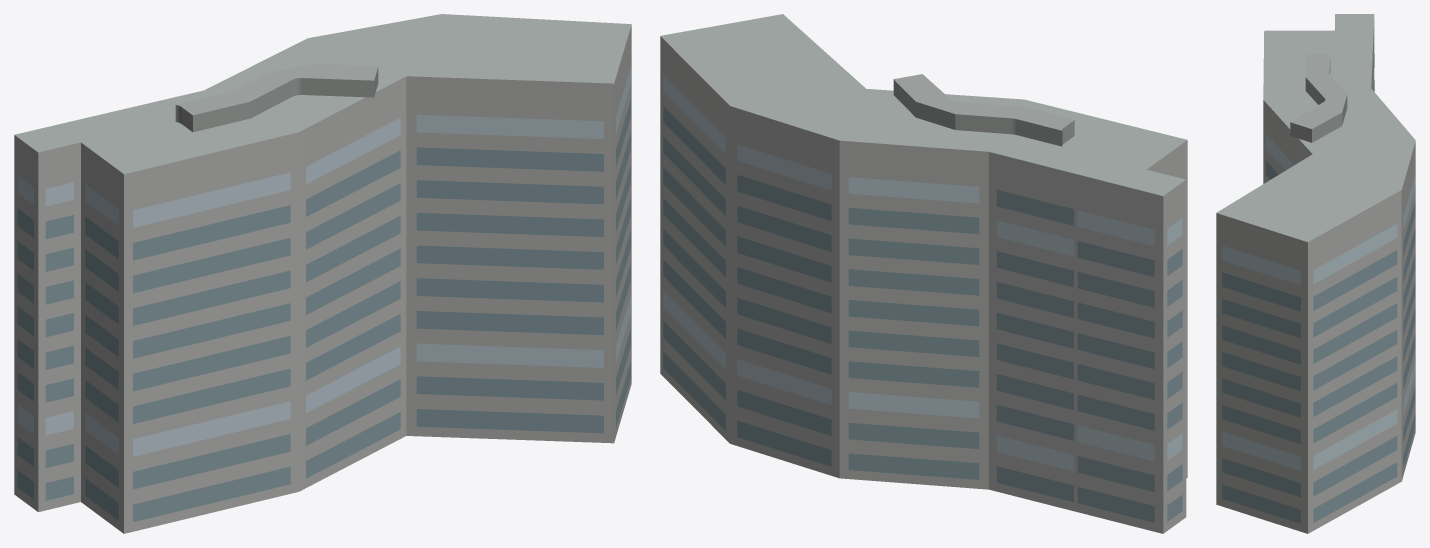
The model's file is fallback-dmc-parkview-xi-extension-101.glb.
The picture shows the model from 3 angles, left to right: view 1: azimuth 30°, elevation 25°; view 2: azimuth 150°, elevation 25°; view 3: azimuth 270°, elevation 25°; orthographic projection. The views are drawn at different scales.
Visible parts, largest first — view 1: fallback-dmc-parkview-xi-extension-101; view 2: fallback-dmc-parkview-xi-extension-101; view 3: fallback-dmc-parkview-xi-extension-101.
Boxes of the visible parts, <box> form: fallback-dmc-parkview-xi-extension-101: <box>14,14,631,533</box>; fallback-dmc-parkview-xi-extension-101: <box>660,14,1187,533</box>; fallback-dmc-parkview-xi-extension-101: <box>1216,14,1415,533</box>.
Size of the model in its own units: 54.52 by 34 by 20.14.
